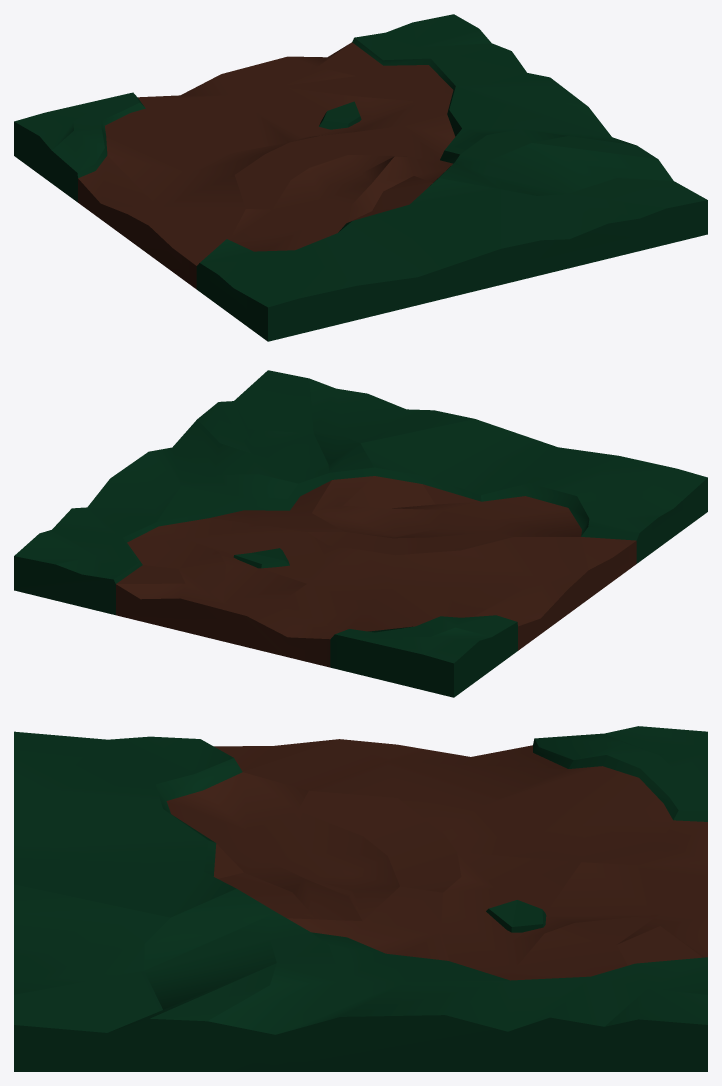
File: Ground_Path_Turn_RB.fbx
3 views of the same model, one above another, from view 1: azimuth 30°, elevation 25°; view 2: azimuth 150°, elevation 25°; view 3: azimuth 270°, elevation 25° (orthographic). The views are drawn at different scales.
Visible parts, largest first — view 1: Ground_Path_Turn_RB; view 2: Ground_Path_Turn_RB; view 3: Ground_Path_Turn_RB.
Boxes of the visible parts, <box> form: Ground_Path_Turn_RB: <box>14,14,707,341</box>; Ground_Path_Turn_RB: <box>14,370,707,697</box>; Ground_Path_Turn_RB: <box>14,726,707,1071</box>.
Size of the model in its own units: 147 by 13.54 by 147.
